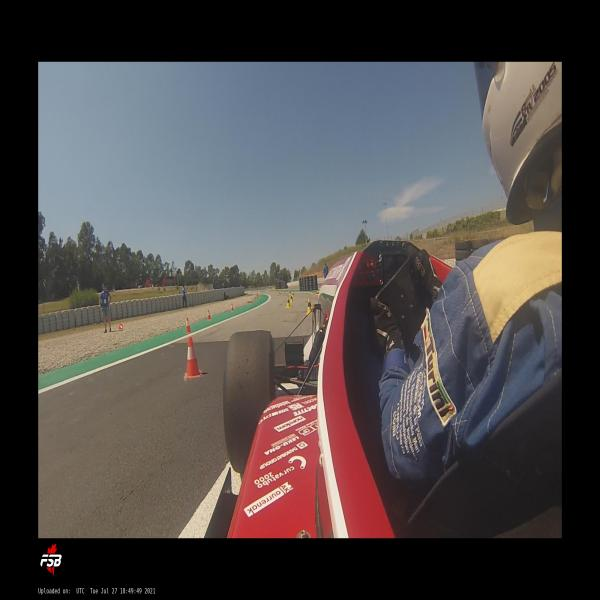orange_cone: (184, 337, 202, 380), (186, 316, 192, 334), (206, 310, 211, 319), (231, 303, 234, 312), (119, 324, 123, 330), (250, 298, 253, 304), (256, 294, 258, 300)
yellow_cone: (306, 298, 313, 314), (286, 297, 291, 309), (290, 294, 293, 303), (292, 292, 294, 298)
